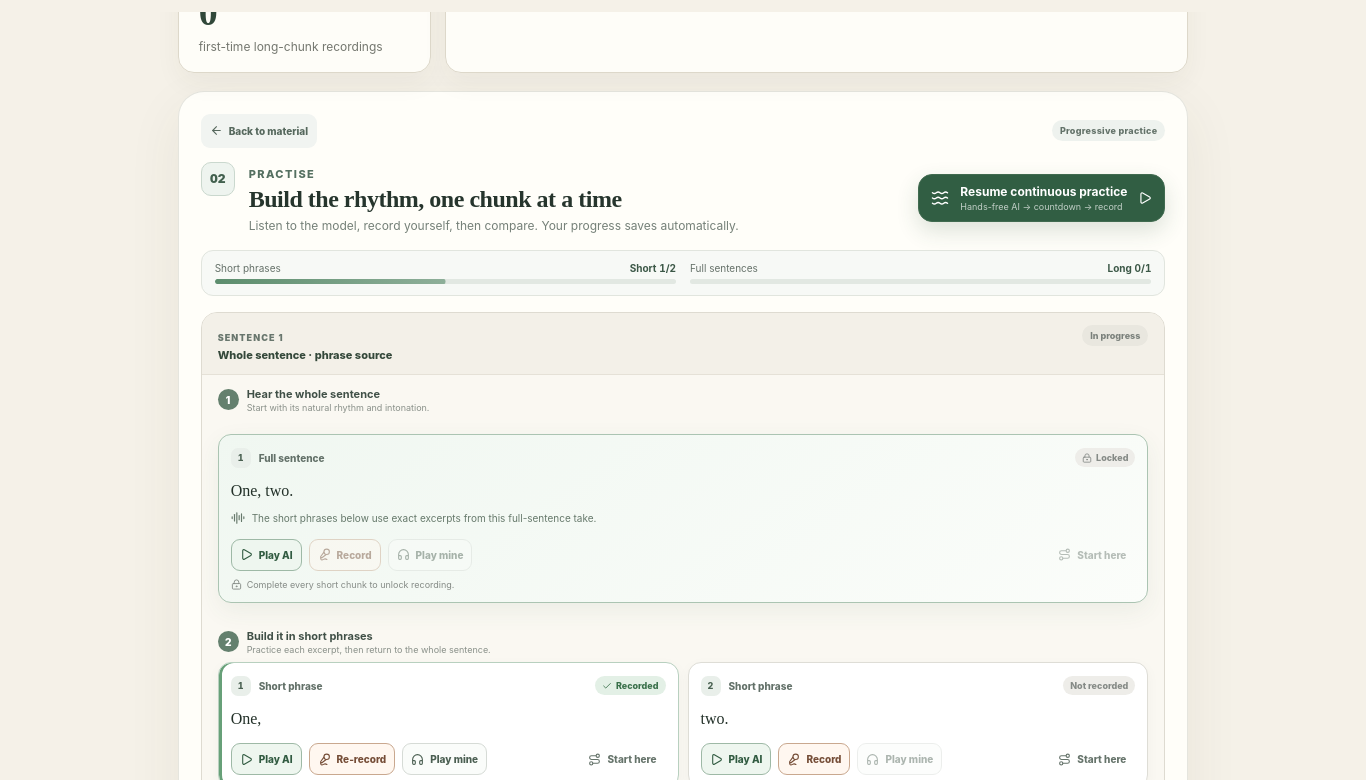
Test: ListenRepeatWorkspace › shows only practice after processing and returns to the material on request
The width and height of the screenshot is (1366, 780).
(page scrolled)
Expected: the heading "Build the rhythm, one chunk at a time" is shown, [249,186,622,212]
Expected: the field labelled "Practice material" is not shown
Click the button "Back to material" at (259, 130), box [201,114,317,148]
(page scrolled)
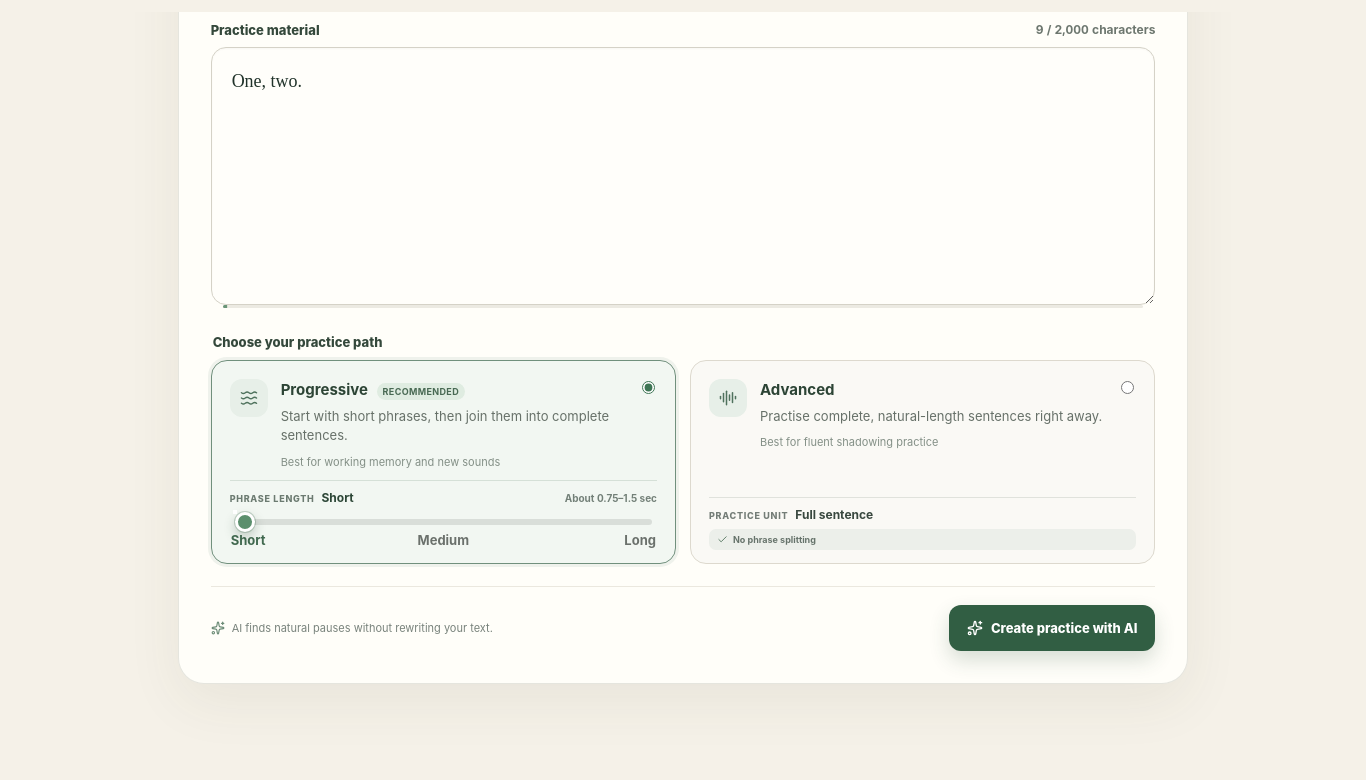
Expected: the text box labelled "Practice material" holds "One, two.", [211,46,1155,305]
Expected: the heading "Build the rhythm, one chunk at a time" is gone
Expected: the button with aria-label "Process with AI" is enabled, [949,605,1155,651]
